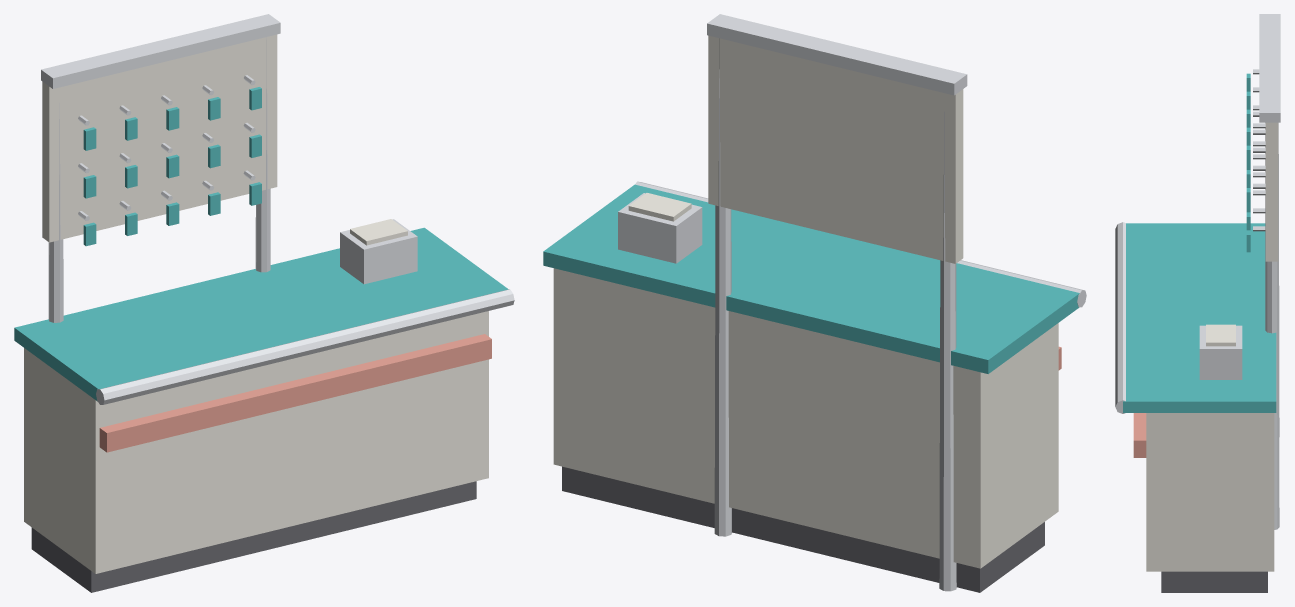
Rendered from retro-diner-and-roadside-motel-reception-desk-key-rack-e40b229b__37352.glb.
The picture shows the model from 3 angles, left to right: view 1: azimuth 30°, elevation 25°; view 2: azimuth 150°, elevation 25°; view 3: azimuth 270°, elevation 25°; orthographic projection. The views are drawn at different scales.
Parts seen in each view (by area): view 1: reception-desk-key-rack-cream, reception-desk-key-rack-turquoise, reception-desk-key-rack-chrome, reception-desk-key-rack-coral, reception-desk-key-rack-asphalt; view 2: reception-desk-key-rack-cream, reception-desk-key-rack-turquoise, reception-desk-key-rack-chrome, reception-desk-key-rack-asphalt; view 3: reception-desk-key-rack-turquoise, reception-desk-key-rack-cream, reception-desk-key-rack-chrome, reception-desk-key-rack-asphalt, reception-desk-key-rack-coral.
Part boxes in pixels (x1,y1,x2,y2): reception-desk-key-rack-cream: [24, 34, 488, 573]; reception-desk-key-rack-turquoise: [14, 87, 508, 401]; reception-desk-key-rack-chrome: [41, 14, 514, 404]; reception-desk-key-rack-coral: [99, 334, 491, 452]; reception-desk-key-rack-asphalt: [31, 481, 476, 592]; reception-desk-key-rack-cream: [553, 35, 1058, 568]; reception-desk-key-rack-turquoise: [543, 184, 1079, 373]; reception-desk-key-rack-chrome: [618, 14, 1086, 591]; reception-desk-key-rack-asphalt: [562, 466, 1044, 592]; reception-desk-key-rack-turquoise: [1123, 73, 1276, 412]; reception-desk-key-rack-cream: [1146, 122, 1278, 571]; reception-desk-key-rack-chrome: [1115, 14, 1280, 529]; reception-desk-key-rack-asphalt: [1161, 571, 1267, 592]; reception-desk-key-rack-coral: [1133, 413, 1146, 457].
Size of the model in its own units: 1.98 by 2.17 by 0.776.
